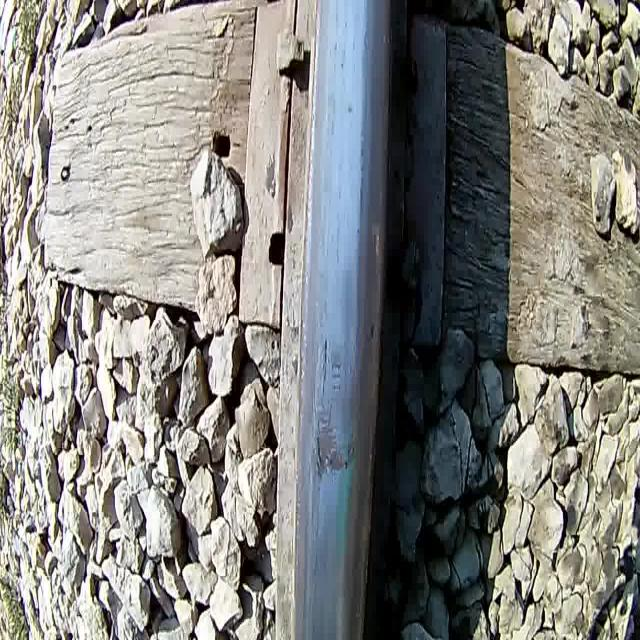Cracks: (315, 412, 326, 482), (320, 334, 329, 401)
Squats: (312, 329, 358, 489)
